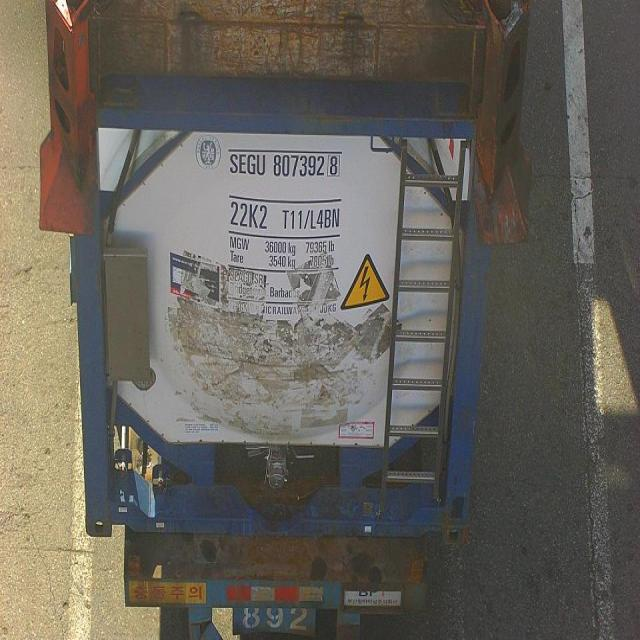ISO: (230, 200, 268, 232)
container_number: (229, 147, 341, 182)
